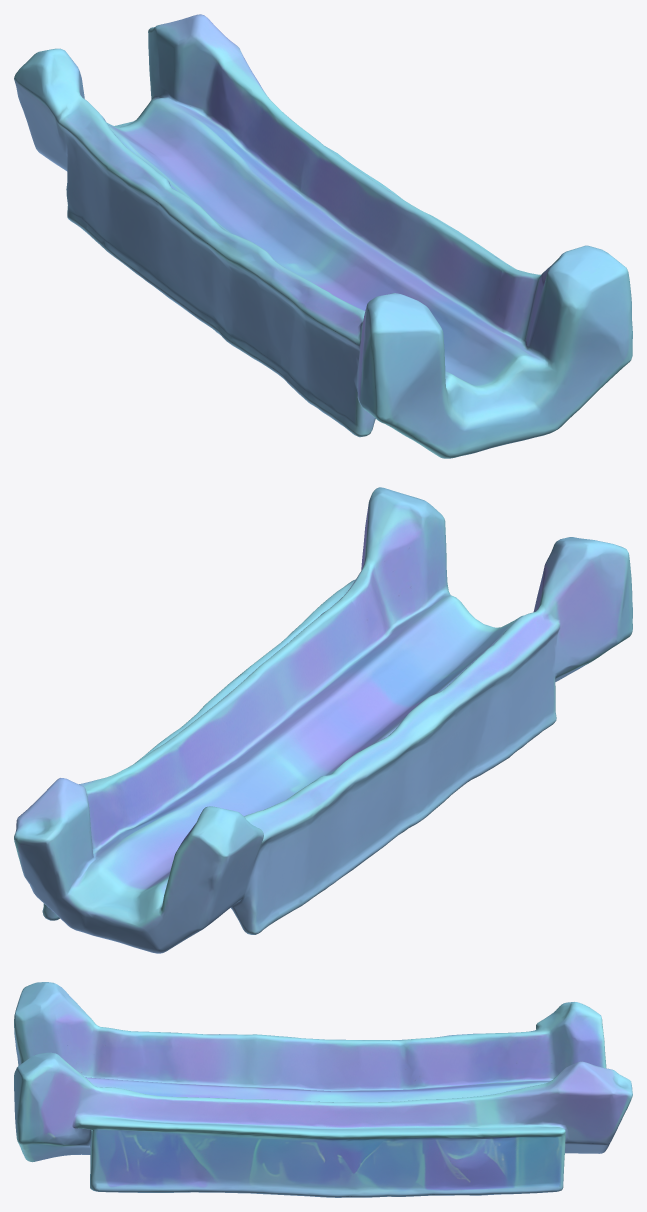
The picture shows the model from 3 angles, top to bottom: view 1: azimuth 30°, elevation 25°; view 2: azimuth 150°, elevation 25°; view 3: azimuth 270°, elevation 25°; orthographic projection. The views are drawn at different scales.
Visible parts, largest first — view 1: Mesh::generatedModels/LmHjFwEmO9itNqb68GzH.gltf; view 2: Mesh::generatedModels/LmHjFwEmO9itNqb68GzH.gltf; view 3: Mesh::generatedModels/LmHjFwEmO9itNqb68GzH.gltf.
Part boxes in pixels (<box>): Mesh::generatedModels/LmHjFwEmO9itNqb68GzH.gltf: <box>14,14,632,458</box>; Mesh::generatedModels/LmHjFwEmO9itNqb68GzH.gltf: <box>14,487,632,953</box>; Mesh::generatedModels/LmHjFwEmO9itNqb68GzH.gltf: <box>14,982,632,1197</box>.
Size of the model in its own units: 0.3605 by 0.2474 by 1.
1 material, 1 textured.
